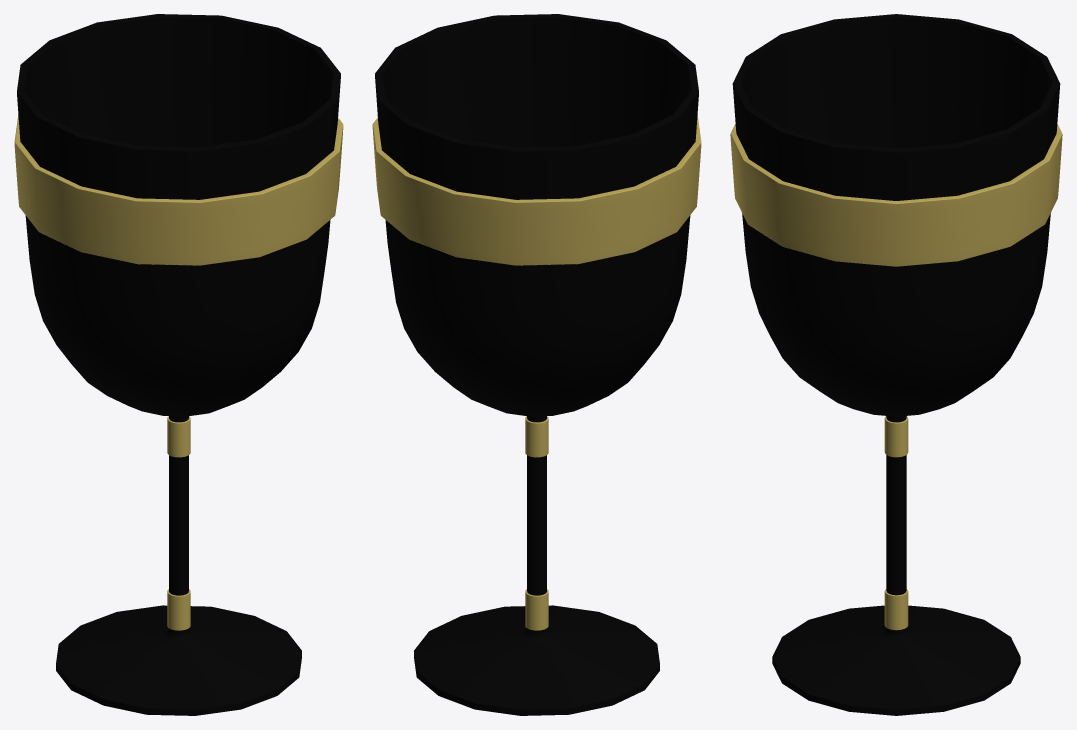
The model's file is wine_center.fbx.
The picture shows the model from 3 angles, left to right: view 1: azimuth 30°, elevation 25°; view 2: azimuth 150°, elevation 25°; view 3: azimuth 270°, elevation 25°; orthographic projection.
Visible parts, largest first — view 1: wine_centre; view 2: wine_centre; view 3: wine_centre.
Part boxes in pixels (x1,y1,x2,y2): wine_centre: (14, 14, 343, 715); wine_centre: (372, 14, 701, 715); wine_centre: (730, 14, 1062, 715).
Bounding box in the file's own units: 9.56 × 18.45 × 9.56.
